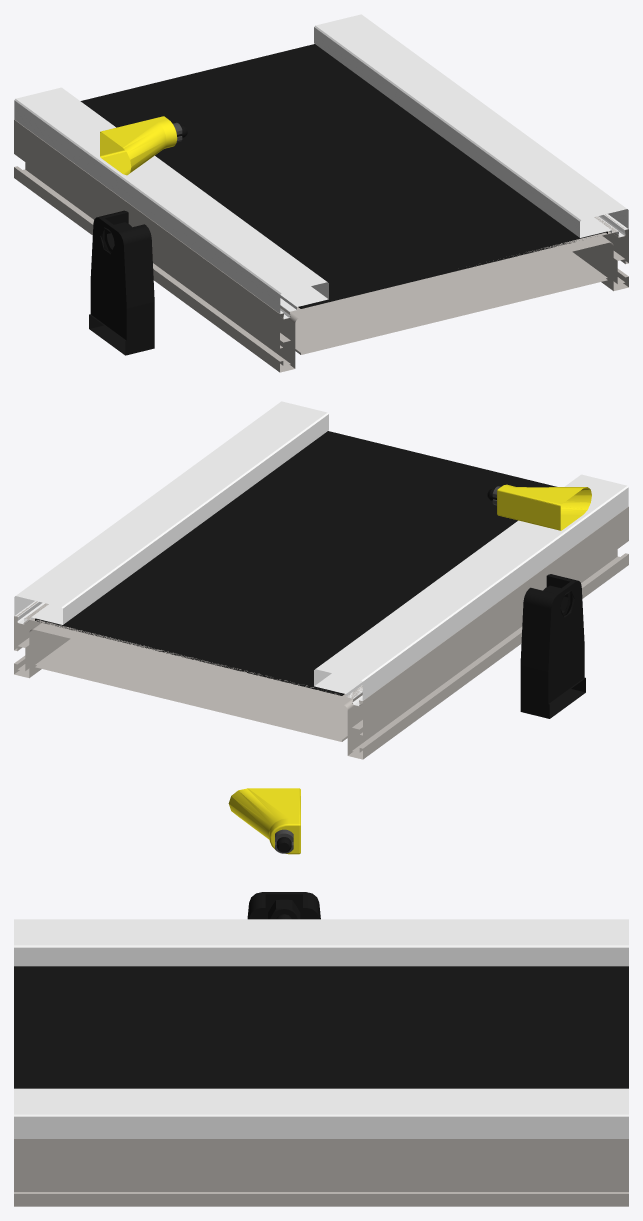
The model's file is PinInsertionStation_Cube01.glb.
3 renders of one model, top to bottom at view 1: azimuth 30°, elevation 25°; view 2: azimuth 150°, elevation 25°; view 3: azimuth 270°, elevation 25°, orthographic. The views are drawn at different scales.
Visible parts, largest first — view 1: color-25.001; view 2: color-25.001; view 3: color-25.001.
Part boxes in pixels (<box>): color-25.001: <box>14,14,628,372</box>; color-25.001: <box>14,401,628,759</box>; color-25.001: <box>14,788,628,1206</box>.
Bounding box in the file's own units: 0.29 × 0.141 × 0.33.
